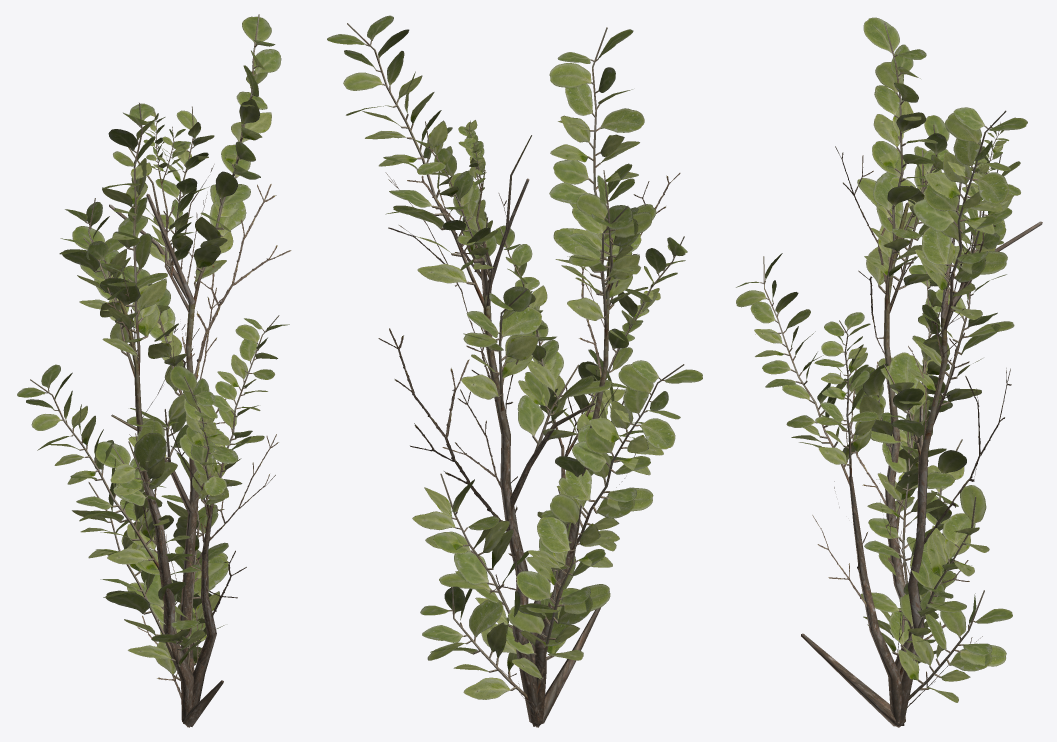
File: UE_searsia_lucida_g.gltf
3 renders of one model, left to right at view 1: azimuth 30°, elevation 25°; view 2: azimuth 150°, elevation 25°; view 3: azimuth 270°, elevation 25°, orthographic. The views are drawn at different scales.
Visible parts, largest first — view 1: searsia_lucida_g; view 2: searsia_lucida_g; view 3: searsia_lucida_g.
Part boxes in pixels (<box>): searsia_lucida_g: <box>17,14,291,727</box>; searsia_lucida_g: <box>327,15,702,727</box>; searsia_lucida_g: <box>736,17,1042,727</box>.
Size of the model in its own units: 0.3817 by 0.7868 by 0.3249.
3 materials, 3 textured.
